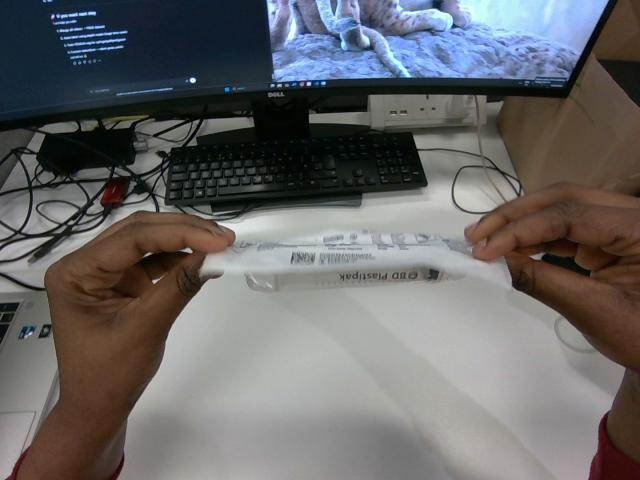syringe: (201, 230, 510, 290)
